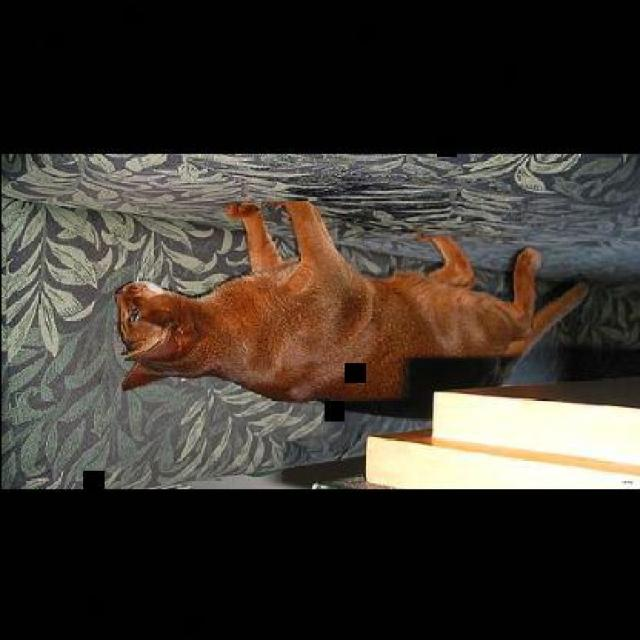unauthorized: (112, 197, 590, 409)
